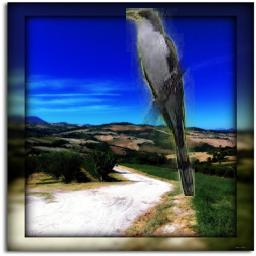Cuckoo: (127, 8, 196, 196)
